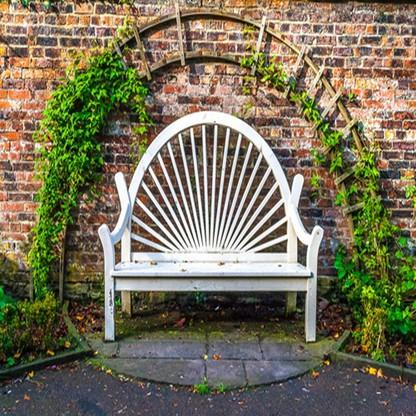obstacle: (86, 115, 330, 360)
